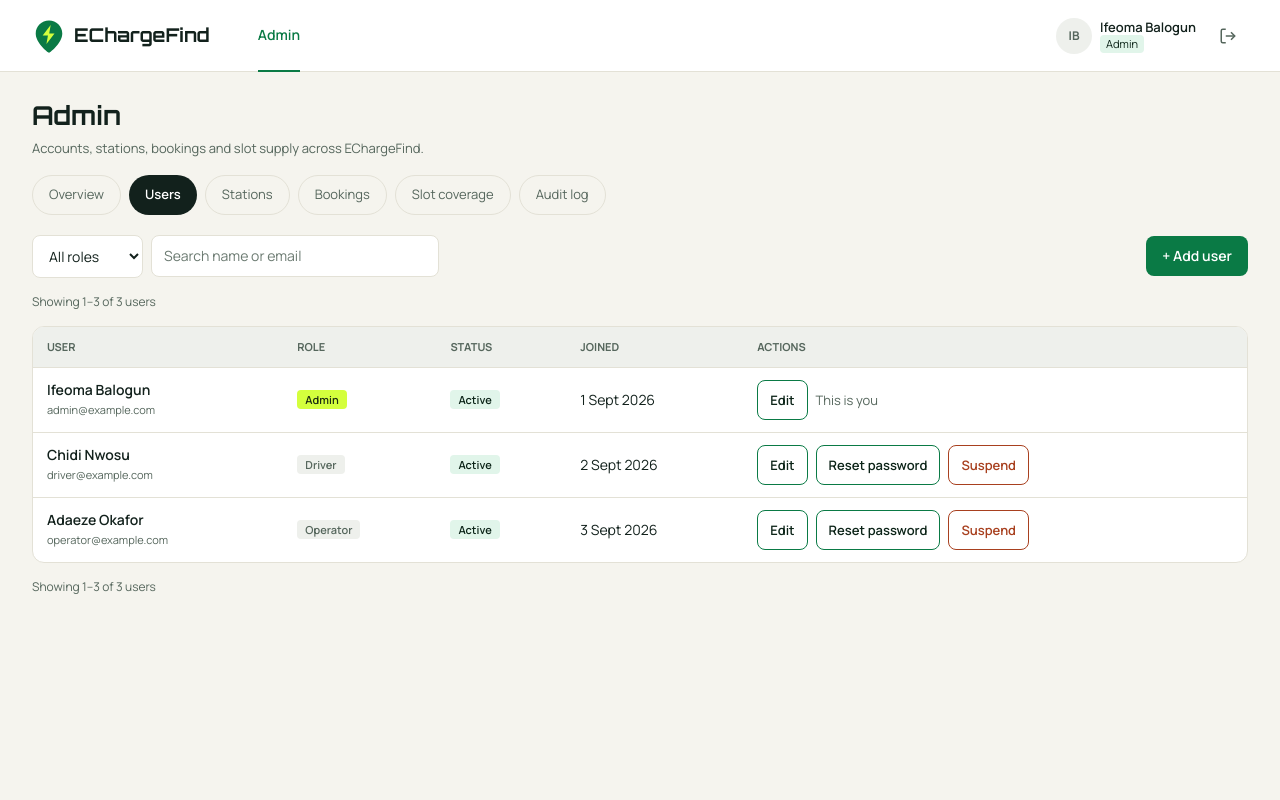
admin users › does nothing when the confirmation is dismissed
The width and height of the screenshot is (1280, 800).
Check: the text "Chidi Nwosu" is shown, box x1=47 y1=444 x2=130 y2=464
Click the button with aria-label "Suspend Chidi Nwosu".
click(989, 464)  # box x1=948 y1=444 x2=1029 y2=484
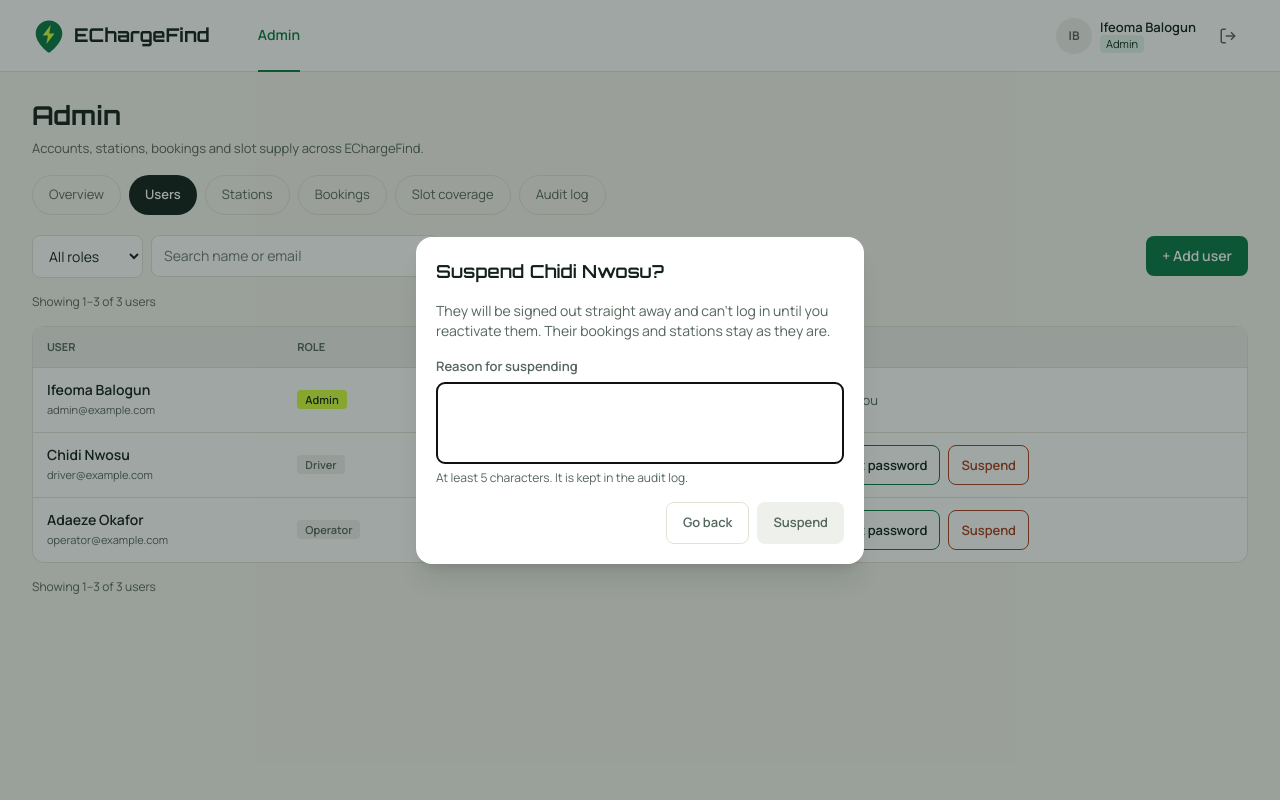
Click the button "Go back".
click(708, 523)  # box x1=666 y1=502 x2=749 y2=544
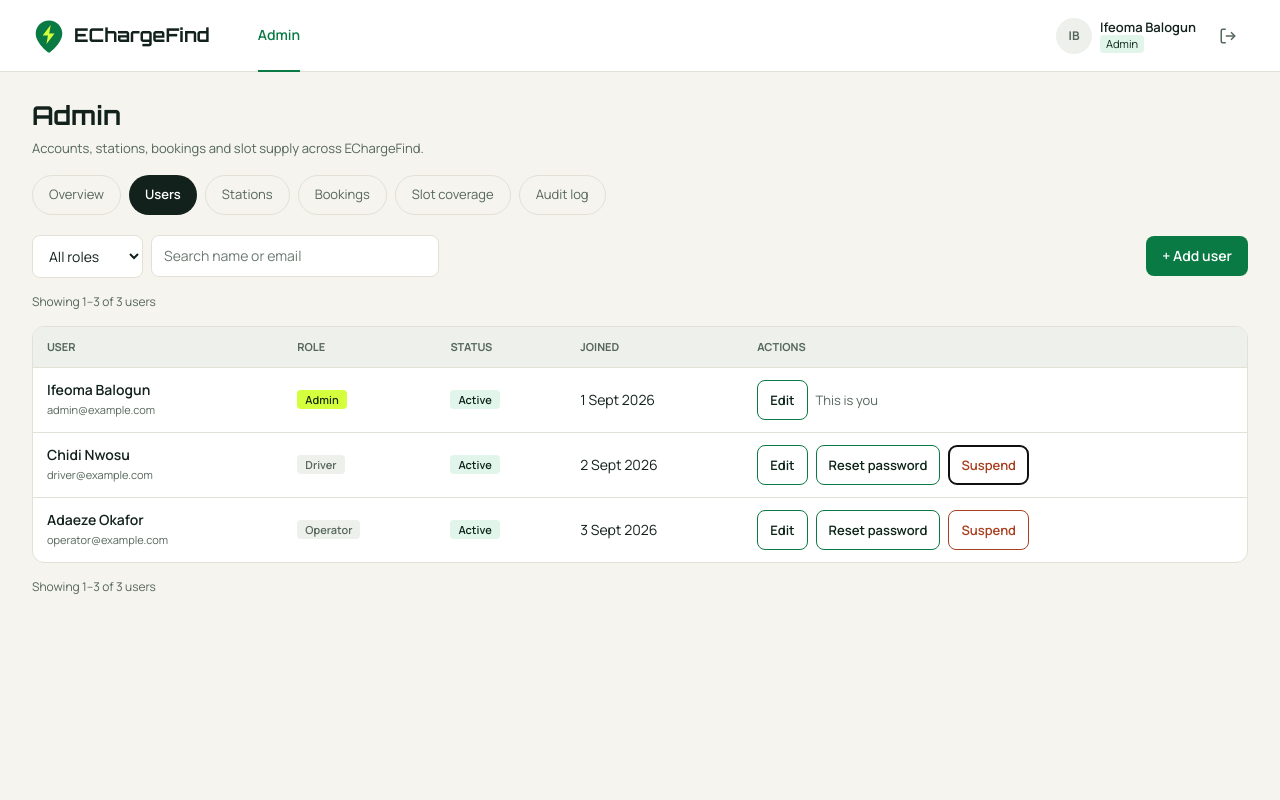
Check: the text "Active" in the row of "Chidi Nwosu" is shown, box x1=458 y1=457 x2=492 y2=472
Check: the dialog is gone
